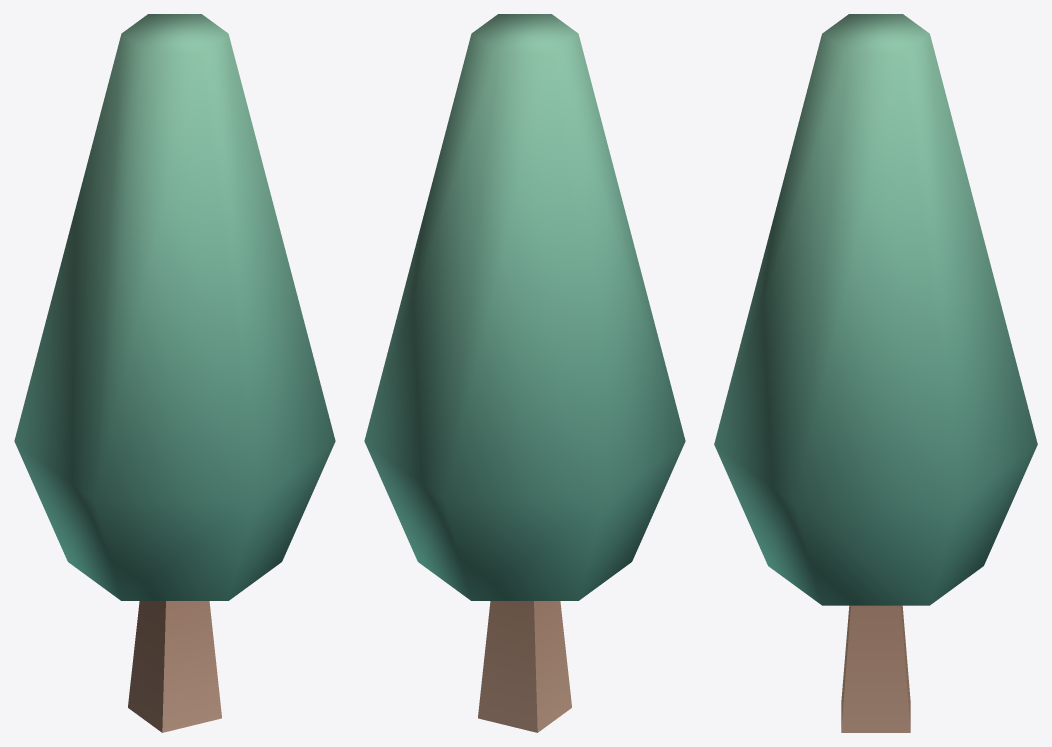
The model's file is tree-small.glb.
The picture shows the model from 3 angles, left to right: view 1: azimuth 30°, elevation 25°; view 2: azimuth 150°, elevation 25°; view 3: azimuth 270°, elevation 25°; orthographic projection.
Parts seen in each view (by area): view 1: tree-small; view 2: tree-small; view 3: tree-small.
Boxes of the visible parts, x1,y1,x2,y2 form: tree-small: [14, 14, 335, 732]; tree-small: [364, 14, 685, 732]; tree-small: [714, 14, 1037, 732].
Bounding box in the file's own units: 0.2104 × 0.567 × 0.243.
